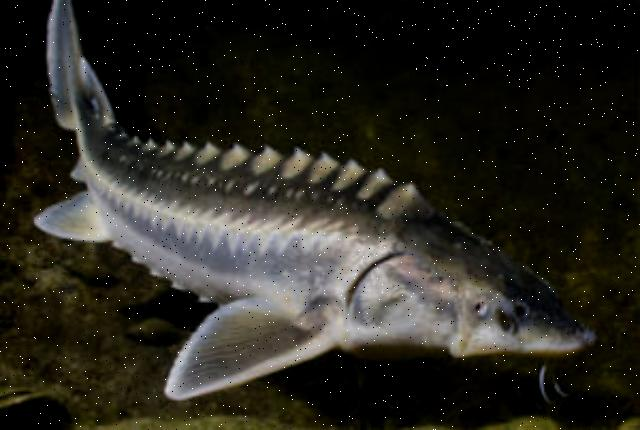Sirip Anal: (59, 152, 97, 192)
Sirip Dada: (153, 287, 357, 417)
Sirip Ekor: (31, 0, 97, 136)
Sirip Perut: (26, 192, 126, 252)
Sirip Punggung: (75, 48, 121, 140)
